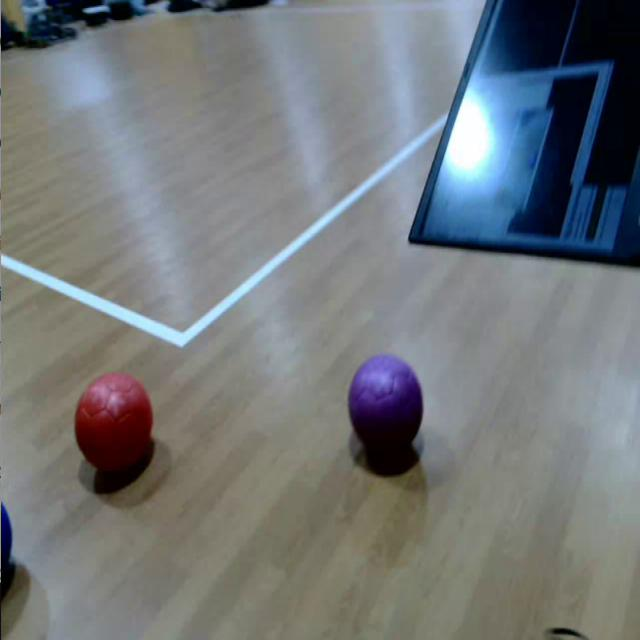purple_ball: (350, 354, 424, 458)
red_ball: (72, 372, 158, 482)
